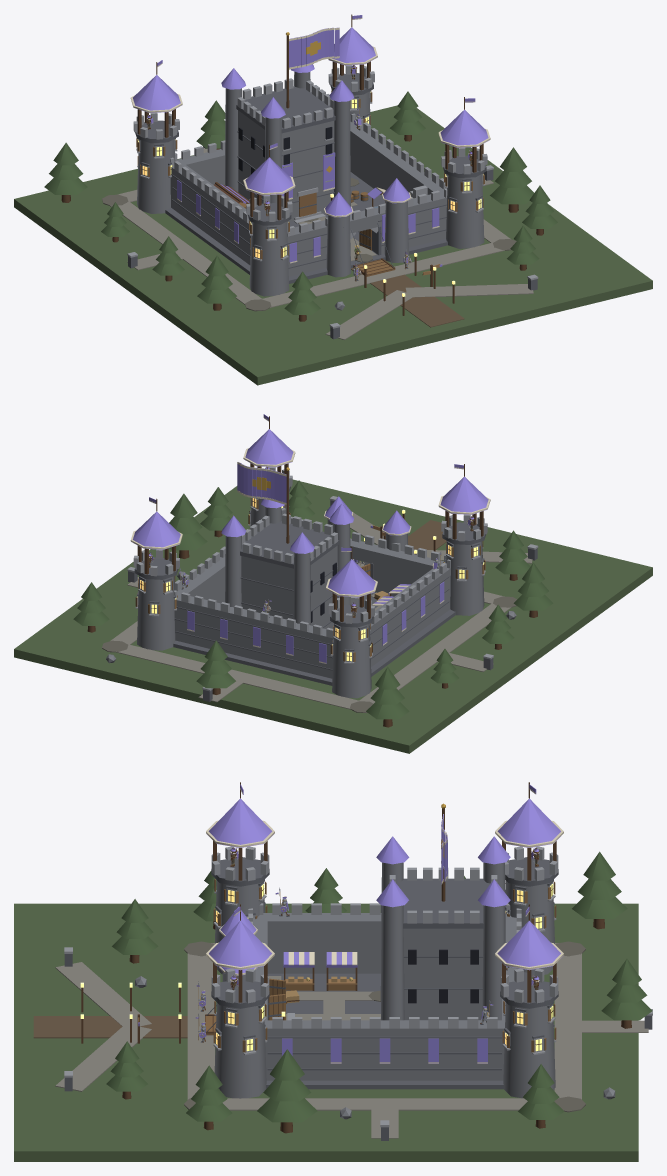
Rendered from Castle.glb.
3 views of the same model, one above another, from view 1: azimuth 30°, elevation 25°; view 2: azimuth 150°, elevation 25°; view 3: azimuth 270°, elevation 25° (orthographic). The views are drawn at different scales.
Visible parts, largest first — view 1: ground, path (×5), tower (×3), tower_roof (×4), keep, keep_turret (×3), wall_L, wall_R, wall_front (×2), gate_turret (×2), plinth, keep_band (+3 smaller); view 2: ground, tower (×3), wall_back, path (×3), tower_roof (×4), keep, keep_turret (×3), wall_L, wall_front, plinth, keep_band, wall_R (+2 smaller); view 3: ground, path (×9), wall_R, tower (×4), tree_foliage (×11), tower_roof (×4), keep, wall_L, keep_turret (×3), plinth, keep_band, tower_platform (×4) (+3 smaller).
Part boxes in pixels (x1,y1,x2,y2): ground: [14, 105, 652, 385]; path (×5): [109, 201, 533, 339]; tower (×3): [137, 139, 484, 296]; tower_roof (×4): [133, 27, 489, 195]; keep: [238, 110, 334, 221]; keep_turret (×3): [225, 88, 350, 206]; wall_L: [172, 165, 250, 264]; wall_R: [350, 124, 443, 194]; wall_front (×2): [287, 191, 446, 276]; gate_turret (×2): [326, 201, 408, 277]; plinth: [165, 172, 447, 283]; keep_band: [236, 86, 335, 133]; ground: [14, 479, 652, 753]; tower (×3): [137, 541, 484, 698]; wall_back: [174, 593, 333, 678]; path (×3): [116, 520, 511, 709]; tower_roof (×4): [133, 429, 488, 597]; keep: [241, 545, 337, 628]; keep_turret (×3): [225, 523, 350, 625]; wall_L: [370, 568, 448, 666]; wall_front: [371, 546, 450, 609]; plinth: [173, 592, 455, 685]; keep_band: [240, 521, 339, 568]; wall_R: [177, 556, 225, 603]; ground: [14, 903, 638, 1161]; path (×9): [33, 953, 648, 1138]; wall_R: [267, 1020, 501, 1080]; tower (×4): [214, 880, 555, 1098]; tree_foliage (×11): [112, 851, 652, 1122]; tower_roof (×4): [207, 798, 562, 970]; keep: [403, 928, 483, 1019]; wall_L: [267, 913, 381, 973]; keep_turret (×3): [380, 862, 505, 1020]; plinth: [266, 972, 527, 1089]; keep_band: [396, 878, 490, 928]; tower_platform (×4): [211, 857, 558, 1008].
Size of the model in its own units: 54 by 23.79 by 58.91.
